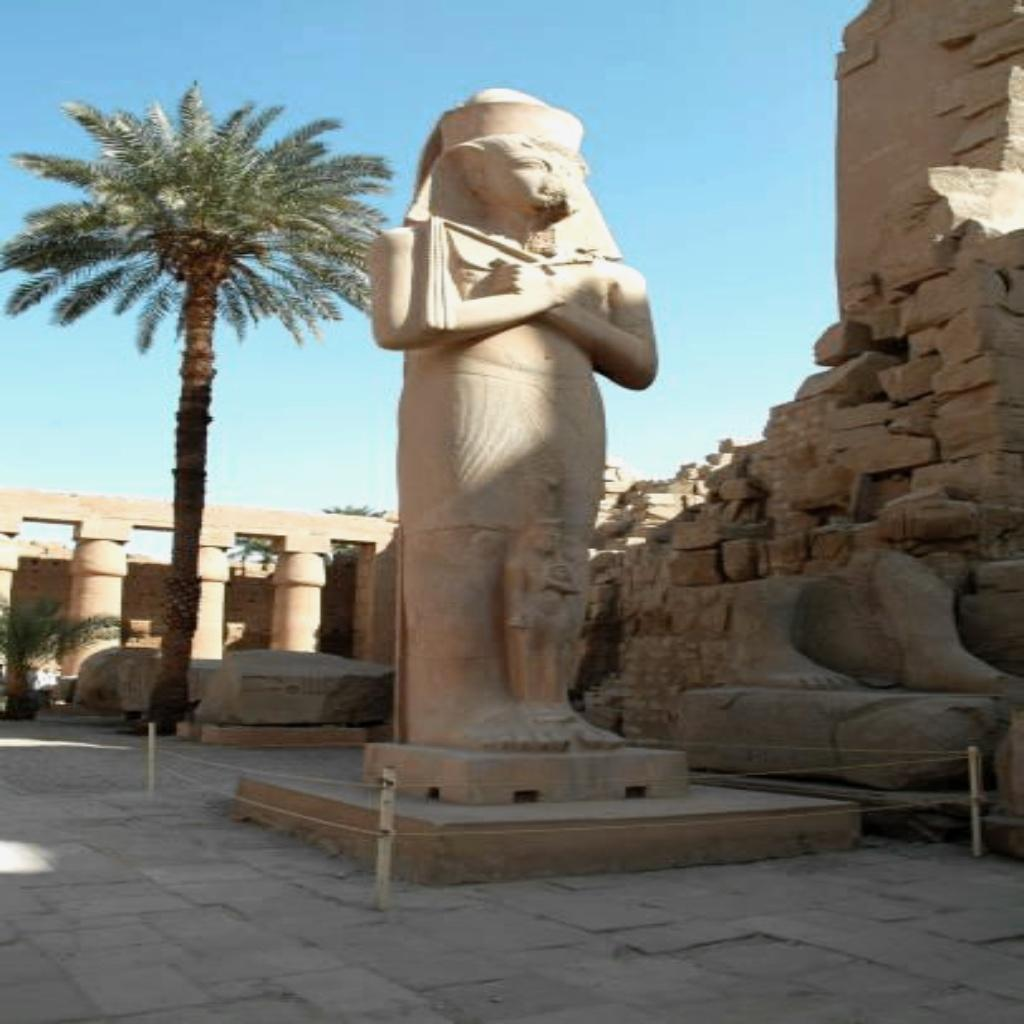Standing Statue of King Ramses II: (358, 86, 666, 774)
